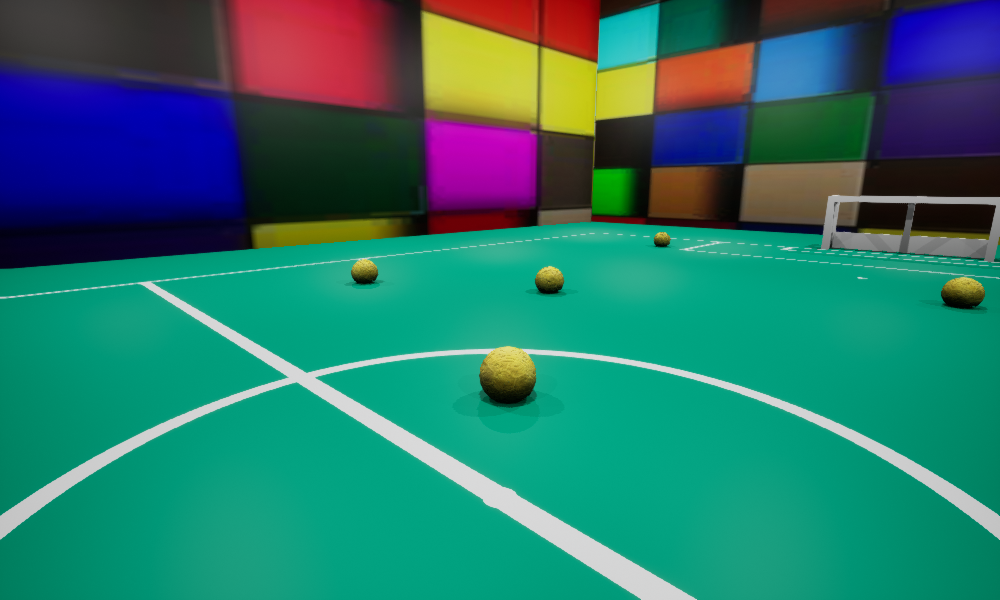b: (479, 346, 535, 402), (941, 277, 984, 307), (535, 266, 563, 293), (351, 259, 377, 283), (654, 232, 670, 246)
g: (821, 195, 999, 261)
